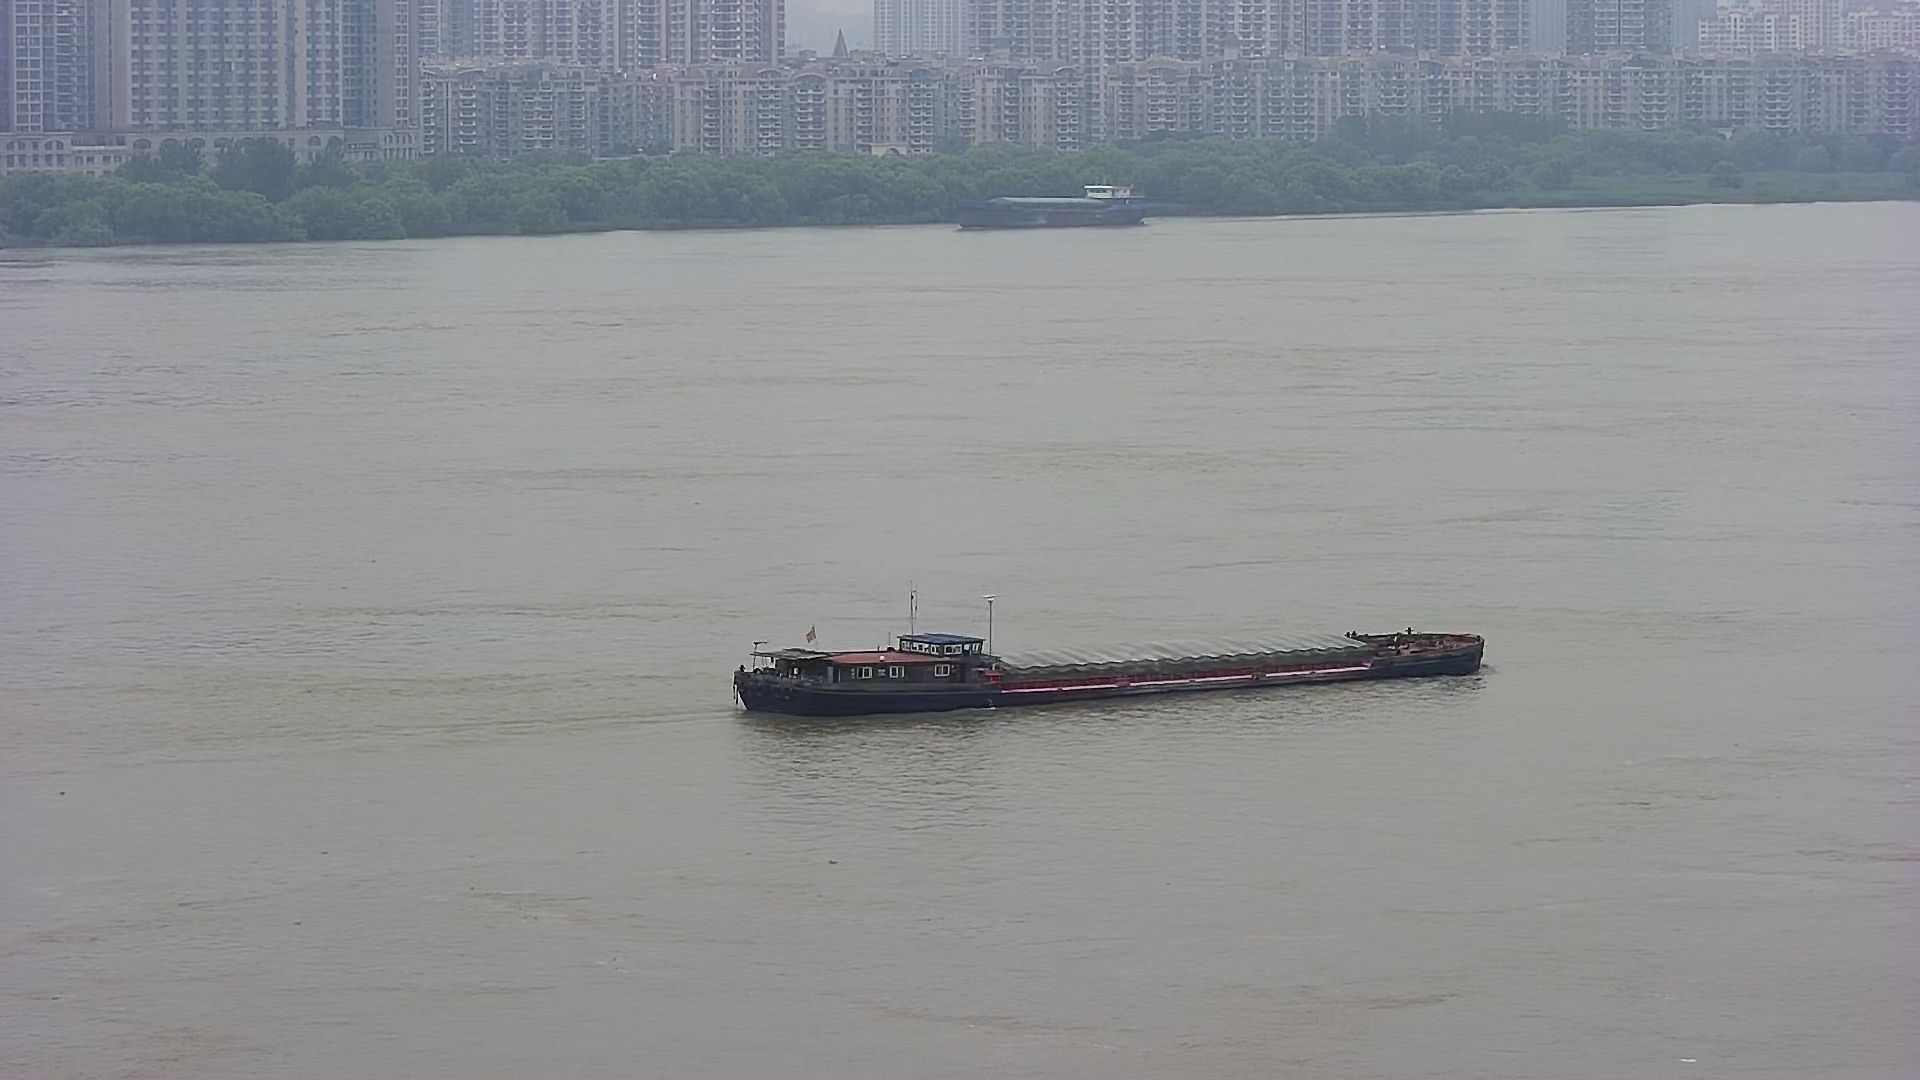ship: (729, 599, 1509, 728), (942, 167, 1158, 233)
